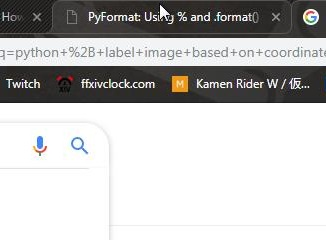cursor: (157, 3, 172, 24)
